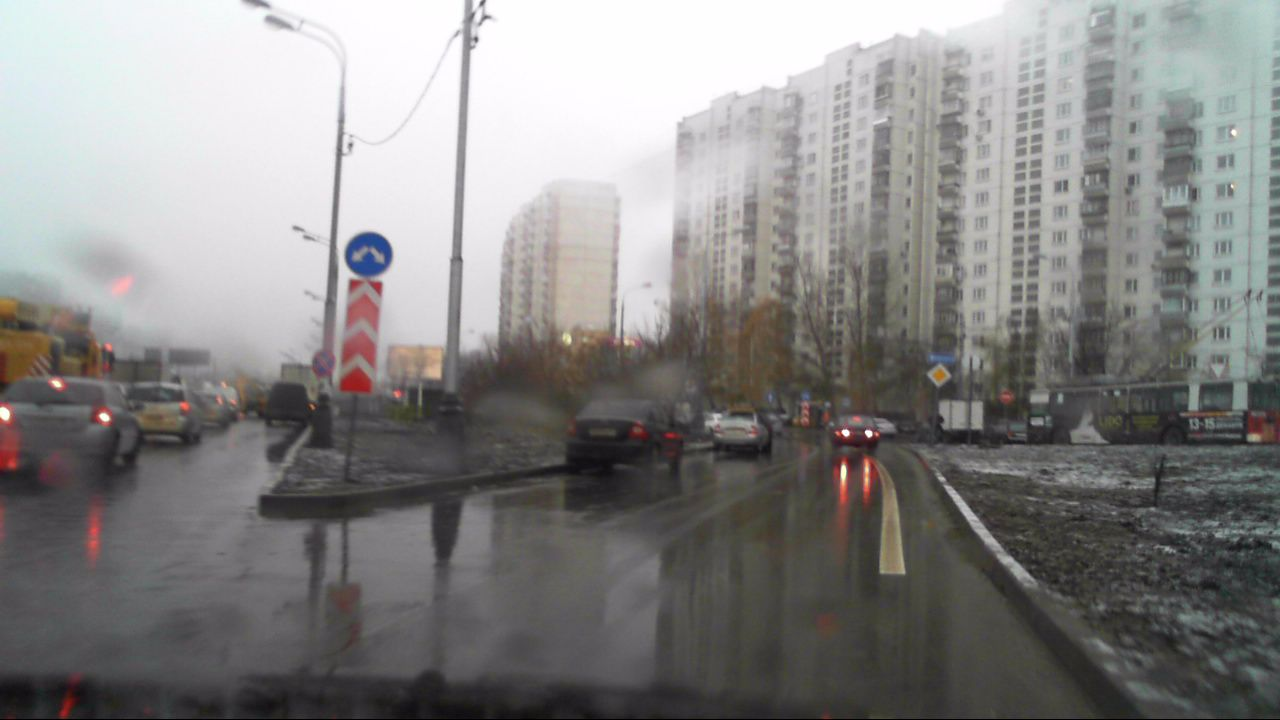No Parking: (312, 349, 335, 378)
